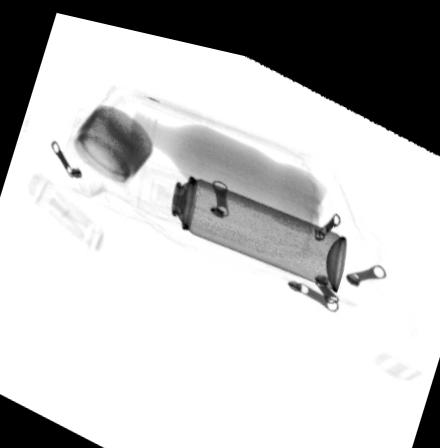Sprayer: (133, 150, 348, 279)
